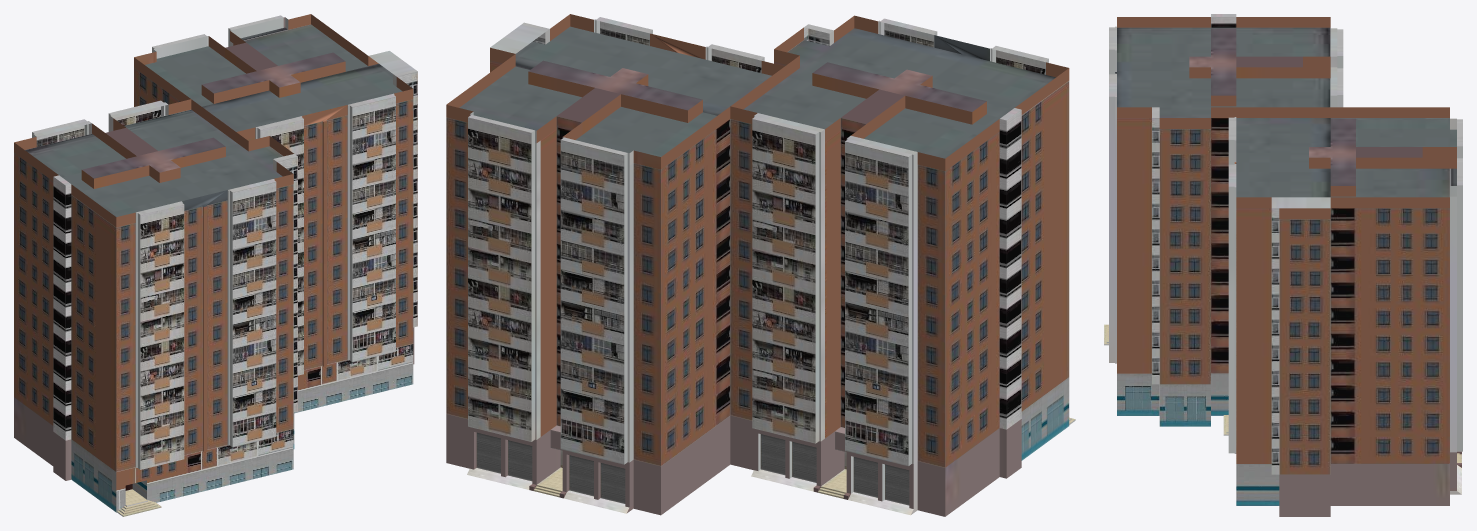
The picture shows the model from 3 angles, left to right: view 1: azimuth 30°, elevation 25°; view 2: azimuth 150°, elevation 25°; view 3: azimuth 270°, elevation 25°; orthographic projection. The views are drawn at different scales.
Parts seen in each view (by area): view 1: HN486___N3A; view 2: HN486___N3A; view 3: HN486___N3A.
Boxes of the visible parts, x1,y1,x2,y2 form: HN486___N3A: (14,14,417,516); HN486___N3A: (446,14,1075,516); HN486___N3A: (1104,14,1462,516).
Bounding box in the file's own units: 53.8 × 39.85 × 42.
1 material, 1 textured.
